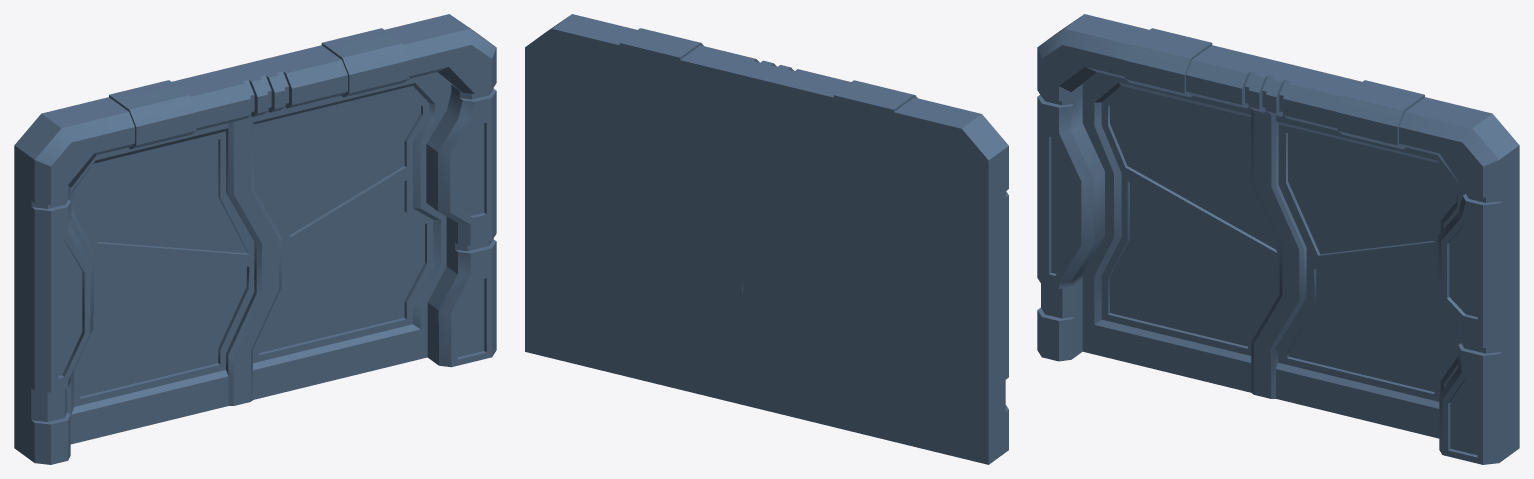
File: SM_Door.fbx
3 views of the same model, side by side, from view 1: azimuth 30°, elevation 25°; view 2: azimuth 150°, elevation 25°; view 3: azimuth 330°, elevation 25° (orthographic).
Visible parts, largest first — view 1: SmartCombine_101, SmartCombine_3, SmartExtract_151; view 2: SmartCombine_101, SmartCombine_3, SmartExtract_151; view 3: SmartCombine_101, SmartExtract_151, SmartCombine_3.
Boxes of the visible parts, <box> form: SmartCombine_101: <box>14,14,496,464</box>; SmartCombine_3: <box>241,72,451,403</box>; SmartExtract_151: <box>67,120,270,444</box>; SmartCombine_101: <box>525,14,1008,464</box>; SmartCombine_3: <box>560,71,771,411</box>; SmartExtract_151: <box>742,116,953,455</box>; SmartCombine_101: <box>1037,14,1519,464</box>; SmartExtract_151: <box>1082,72,1291,396</box>; SmartCombine_3: <box>1262,111,1465,438</box>.
Size of the model in its own units: 380 by 260 by 39.12.
